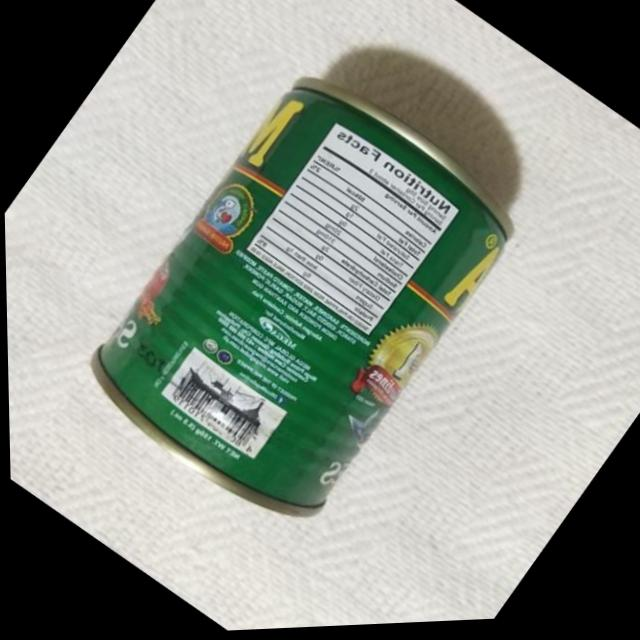metal: (99, 85, 504, 505)
